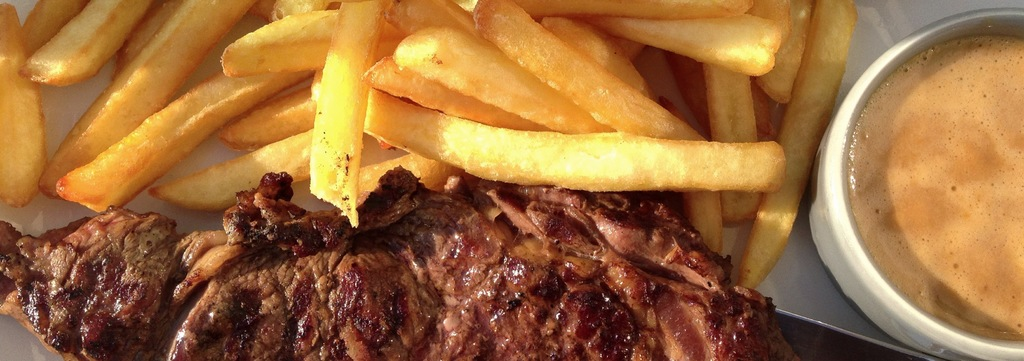French fries: (0, 0, 853, 283)
